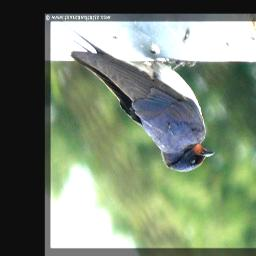Swallow: (52, 15, 215, 172)
